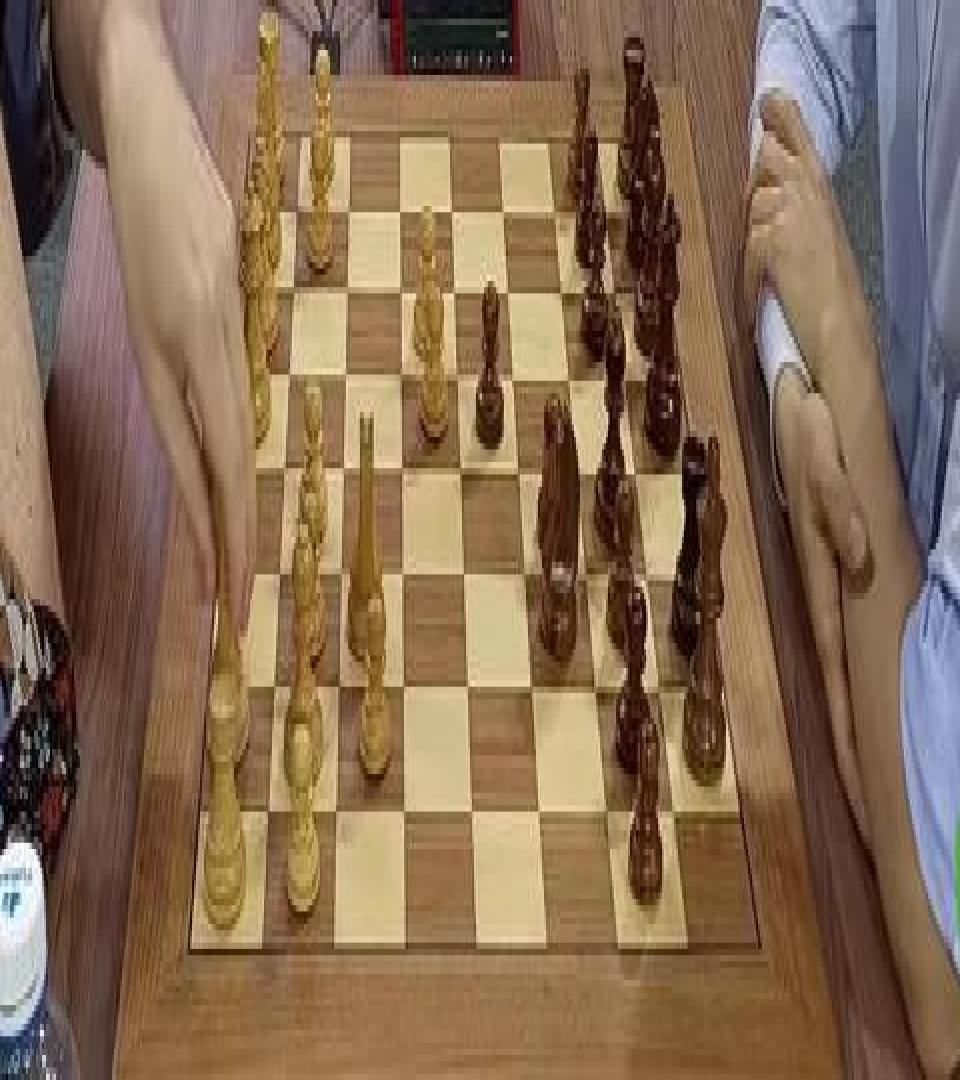xcorner: (601, 200, 611, 231), (550, 200, 560, 231), (498, 197, 508, 228), (447, 197, 457, 228), (395, 197, 405, 228), (343, 193, 353, 224), (290, 193, 300, 224), (610, 281, 620, 312), (557, 278, 567, 309), (503, 278, 513, 309), (449, 275, 459, 306), (395, 275, 405, 306), (341, 275, 351, 306), (508, 362, 518, 393), (452, 362, 462, 393), (396, 362, 406, 393), (339, 359, 349, 390), (283, 359, 293, 390), (630, 459, 640, 490), (572, 459, 582, 490), (514, 456, 524, 487), (455, 456, 465, 487), (396, 456, 406, 487), (337, 453, 347, 484), (278, 453, 288, 484), (642, 562, 652, 593), (581, 559, 591, 590), (520, 559, 530, 590), (458, 559, 468, 590), (397, 559, 407, 590), (654, 671, 664, 702), (590, 671, 600, 702), (526, 671, 536, 702), (462, 671, 472, 702), (397, 671, 407, 702), (333, 668, 343, 699), (268, 668, 278, 699), (668, 796, 678, 827), (601, 796, 611, 827), (534, 796, 544, 827), (466, 793, 476, 824), (398, 793, 408, 824), (330, 793, 340, 824), (262, 793, 272, 824), (287, 272, 297, 302), (620, 366, 630, 396), (564, 366, 574, 396), (335, 556, 345, 586), (273, 556, 283, 586)
